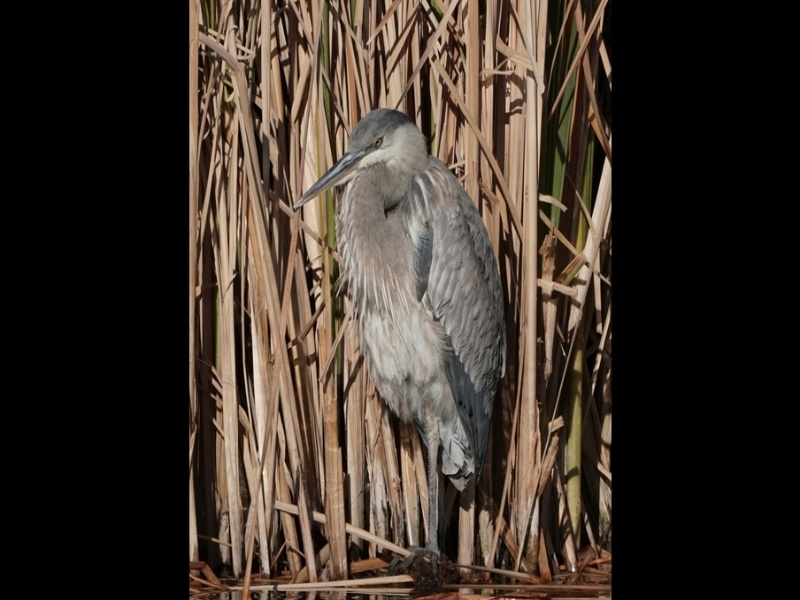heron: (293, 106, 512, 572)
